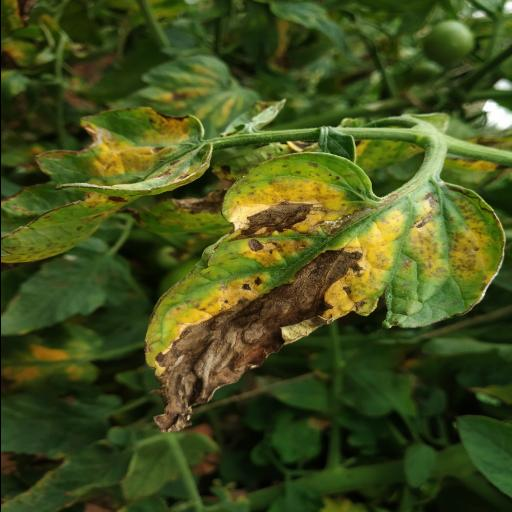disease_tomato: (126, 148, 502, 446)
